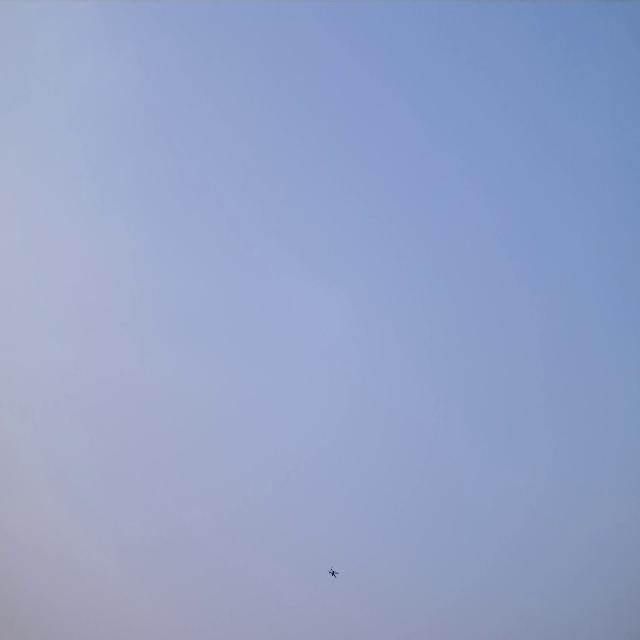UAV: (326, 565, 339, 580)
